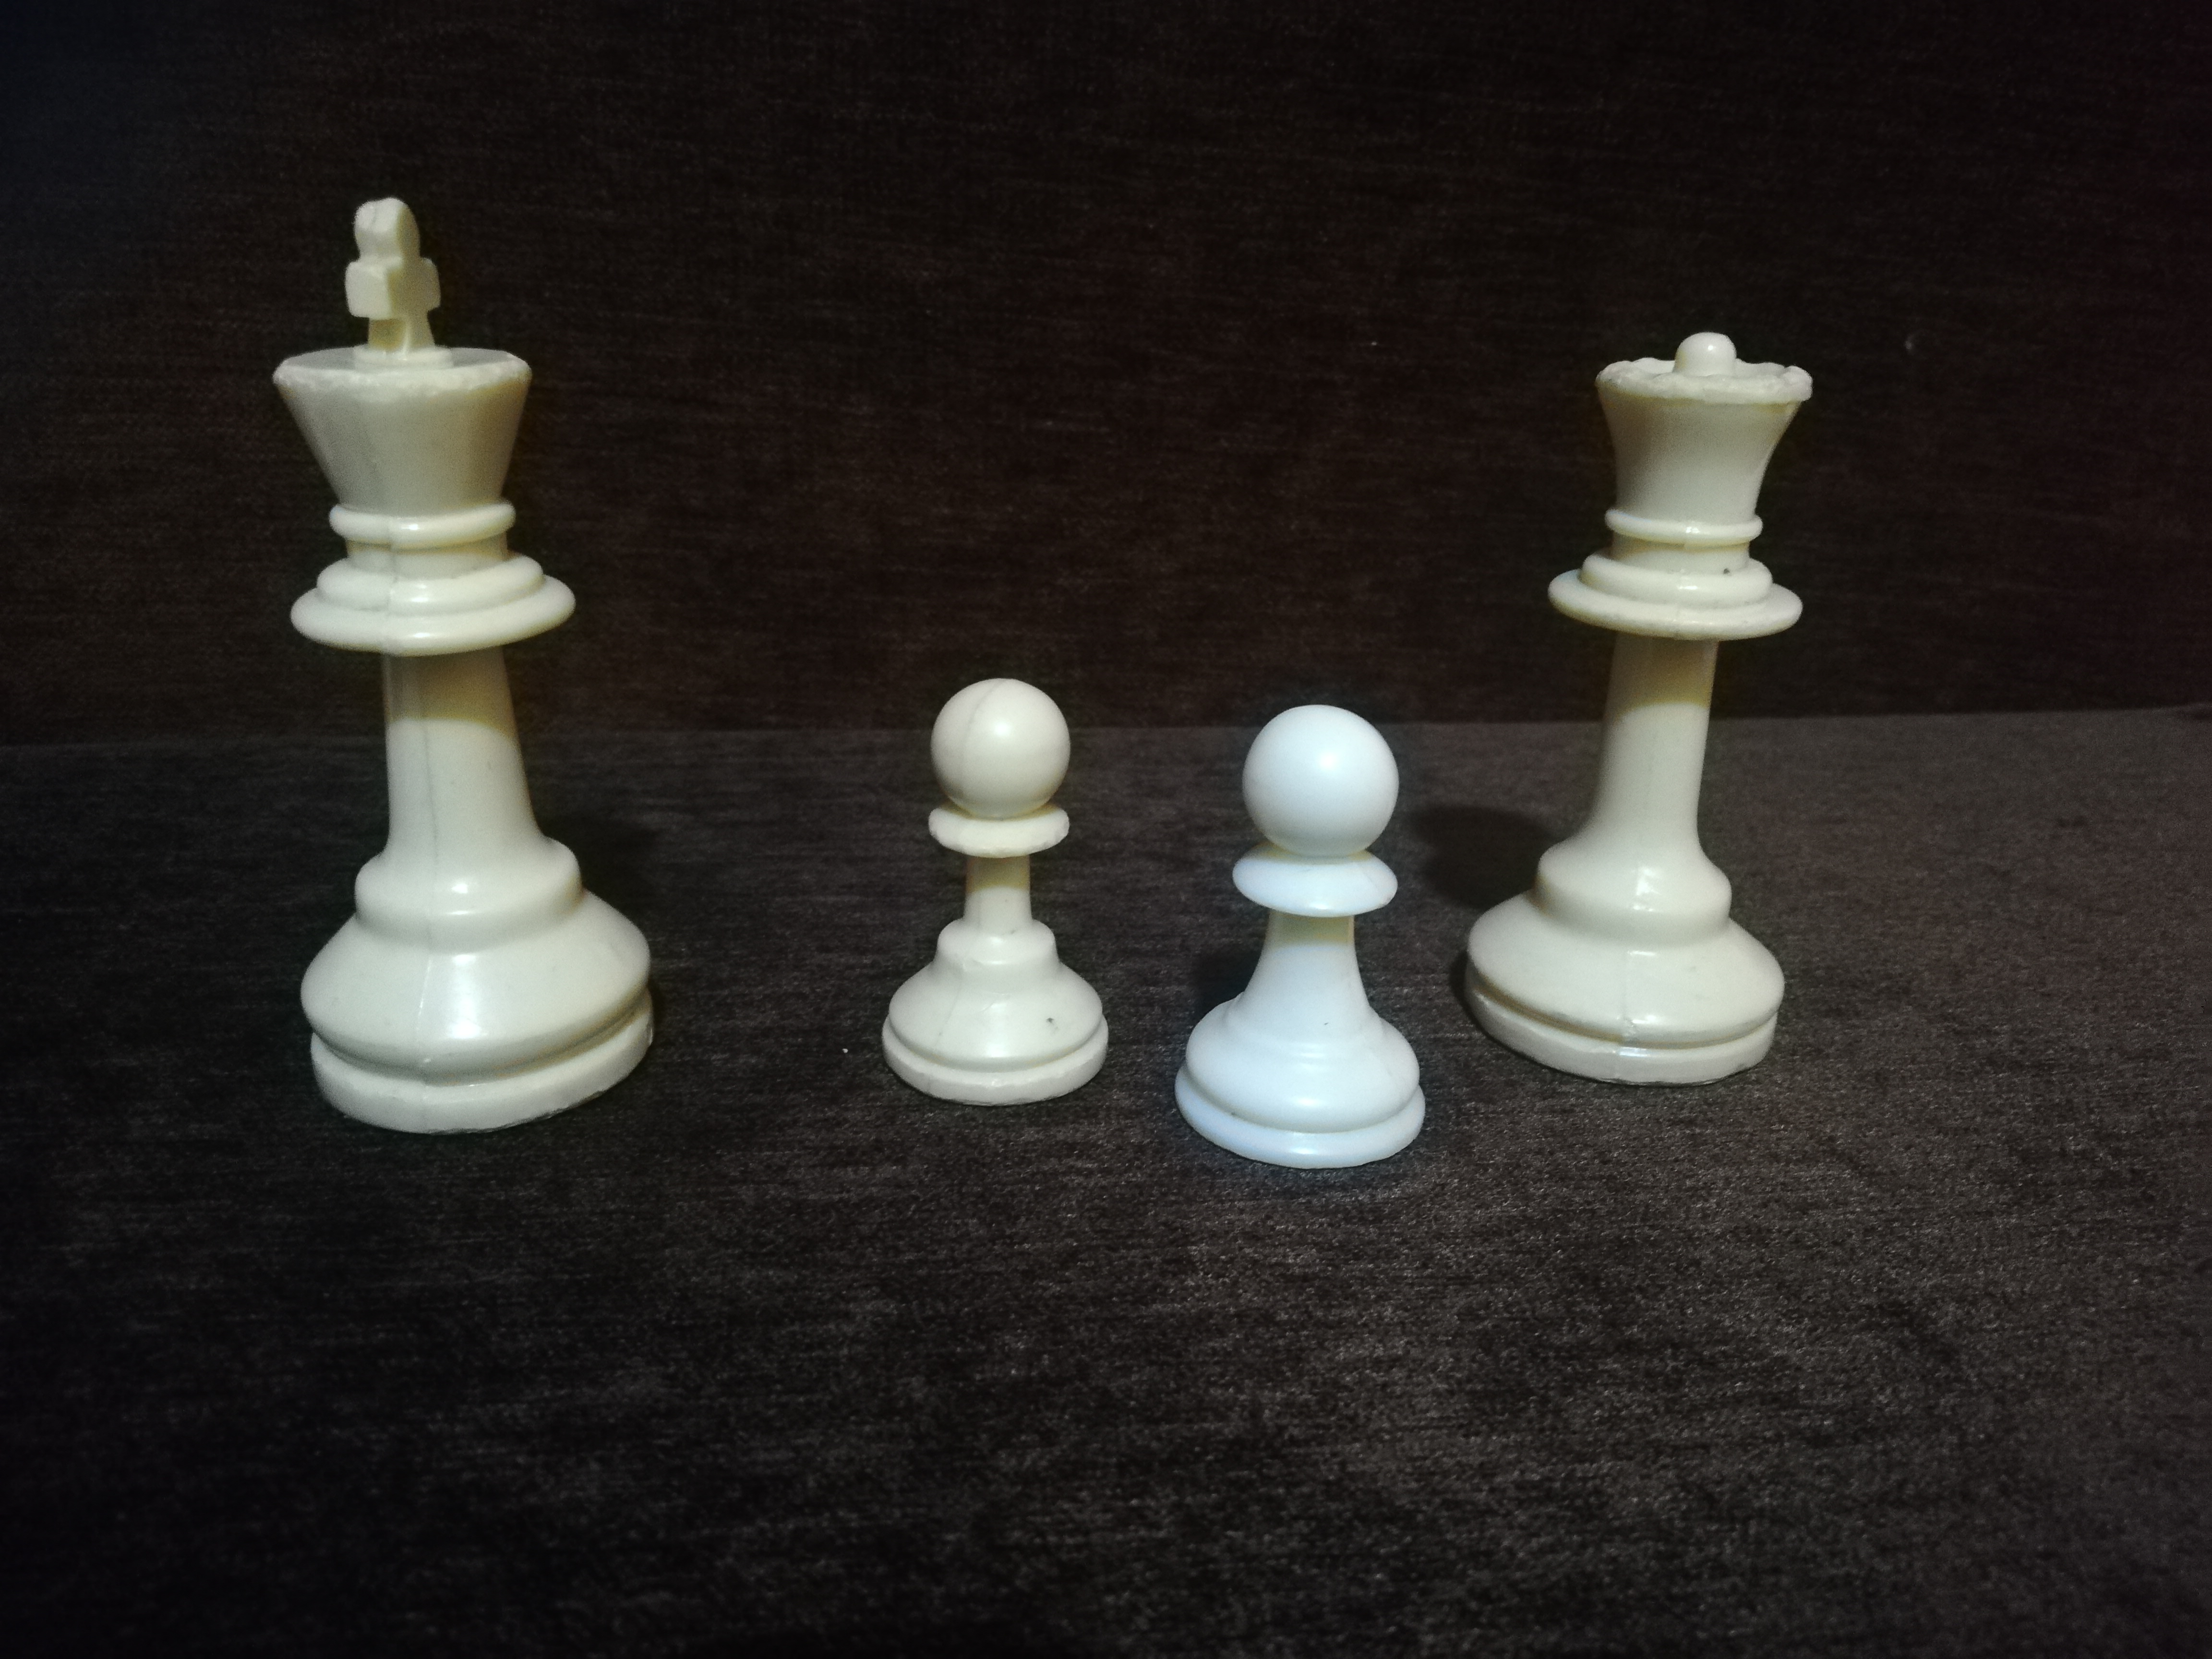King: (216, 159, 667, 1124)
Pawn: (1169, 716, 1443, 1167), (897, 671, 1101, 1106)
Queen: (1462, 296, 1788, 1087)
